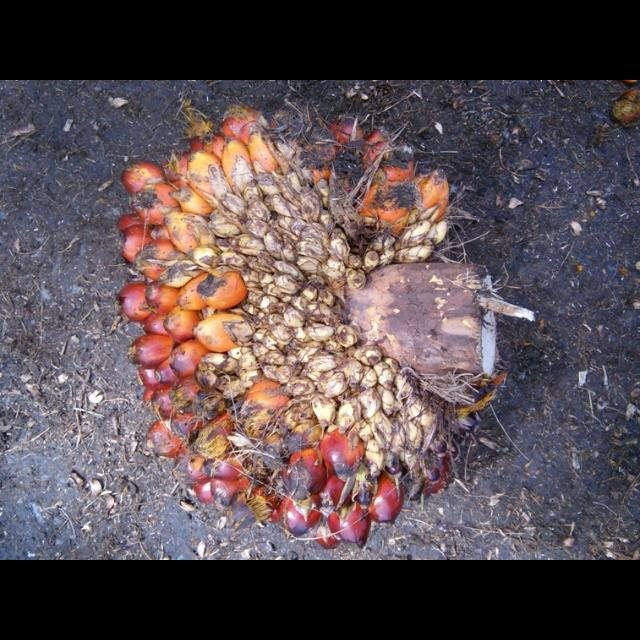Ripe: (115, 107, 475, 550)
